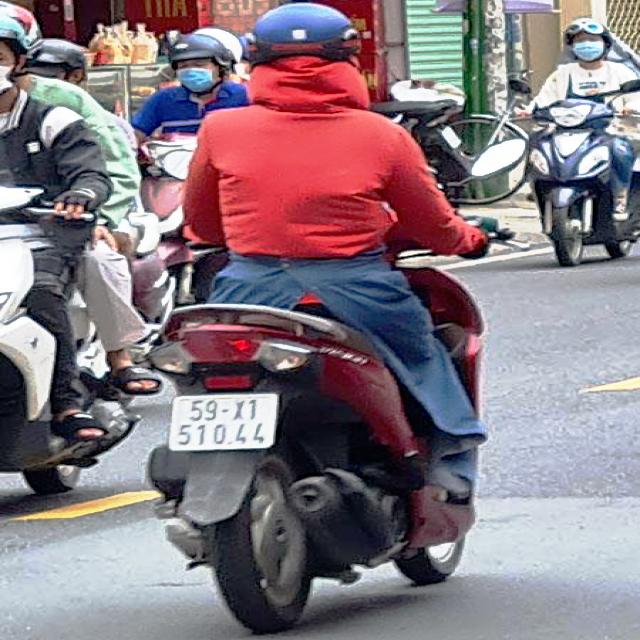license_plate: (166, 393, 278, 450)
